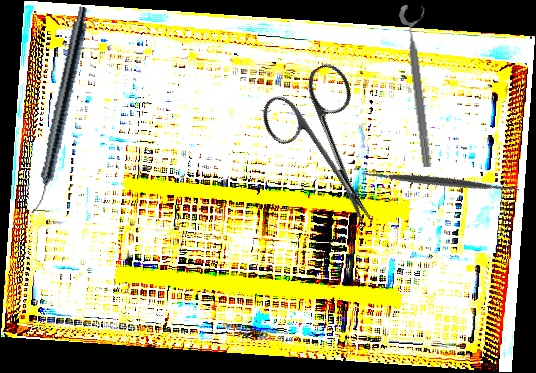Fixation Ring: (398, 2, 445, 169)
Handpiece: (28, 4, 92, 217)
Iris Scissors: (252, 58, 412, 246)
Spatula Surgical: (356, 97, 525, 267)
